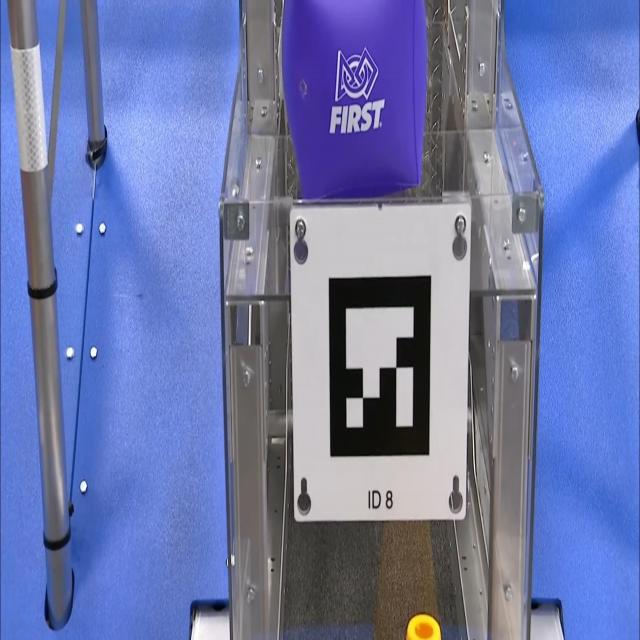frc_cone: (401, 612, 446, 640)
frc_cube: (279, 0, 430, 196)
